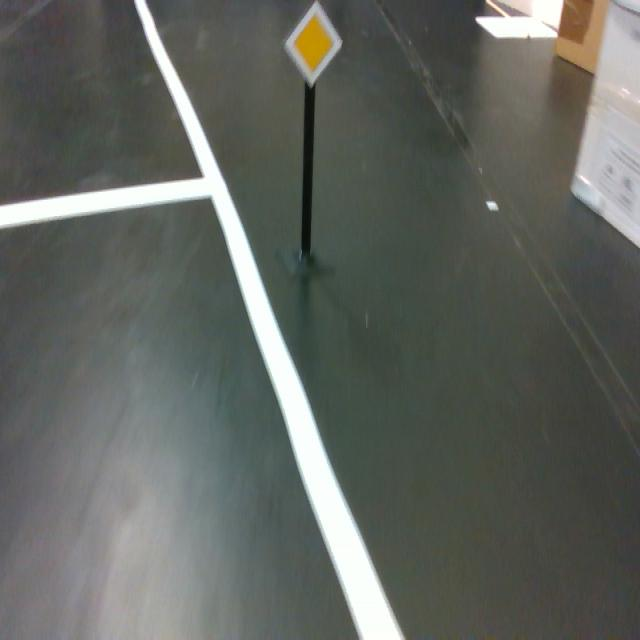priority-sign: (284, 0, 344, 88)
